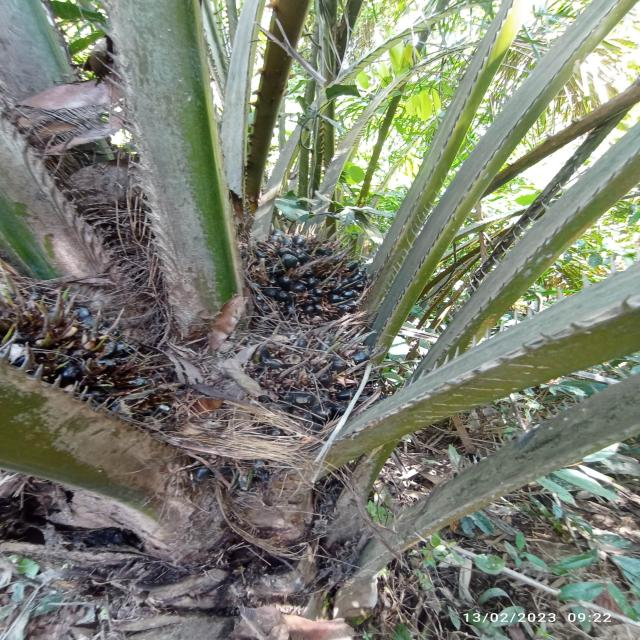fraksi 00: (0, 276, 171, 434), (206, 312, 400, 443), (235, 217, 383, 327)
